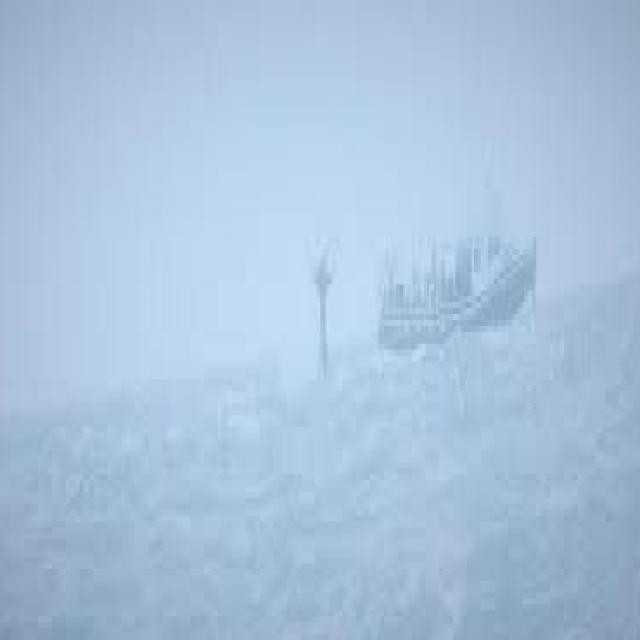fishing boat: (367, 185, 553, 359)
